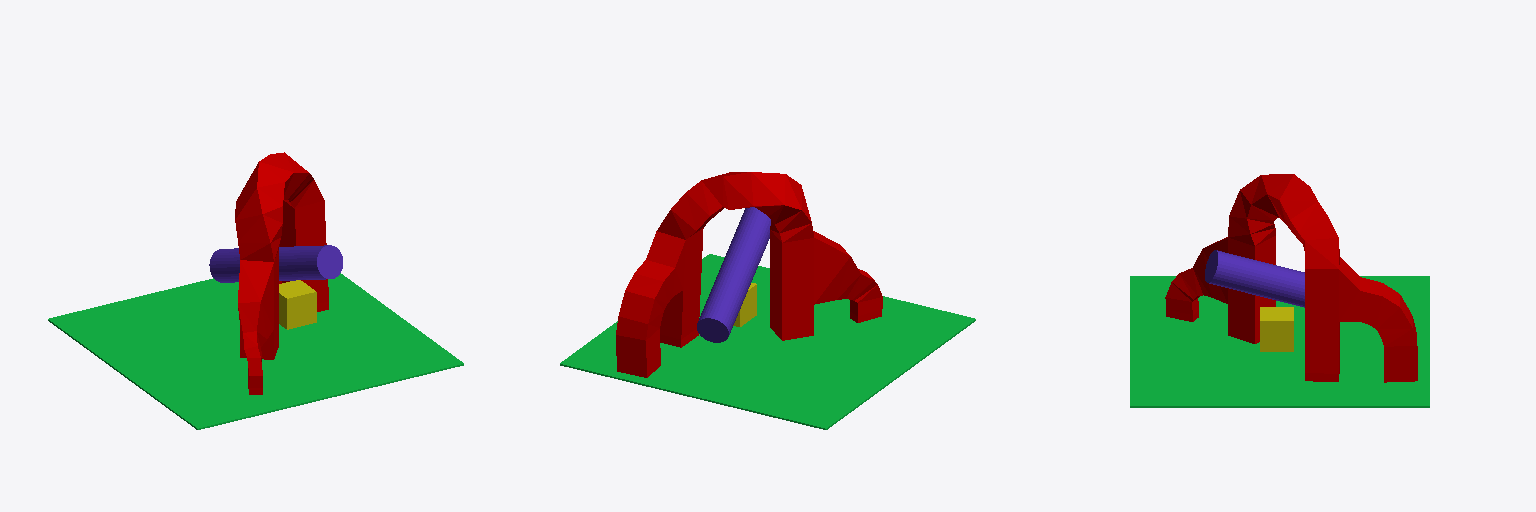
The model's file is arc2.obj.
The picture shows the model from 3 angles: view 1: azimuth 30°, elevation 25°; view 2: azimuth 150°, elevation 25°; view 3: azimuth 270°, elevation 25°; orthographic projection.
Size of the model in its own units: 121 by 75.08 by 118.